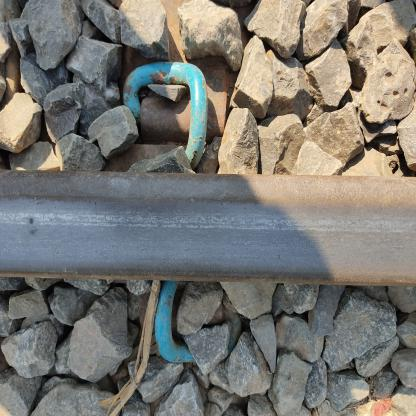Non Defective: (181, 34, 312, 377)
